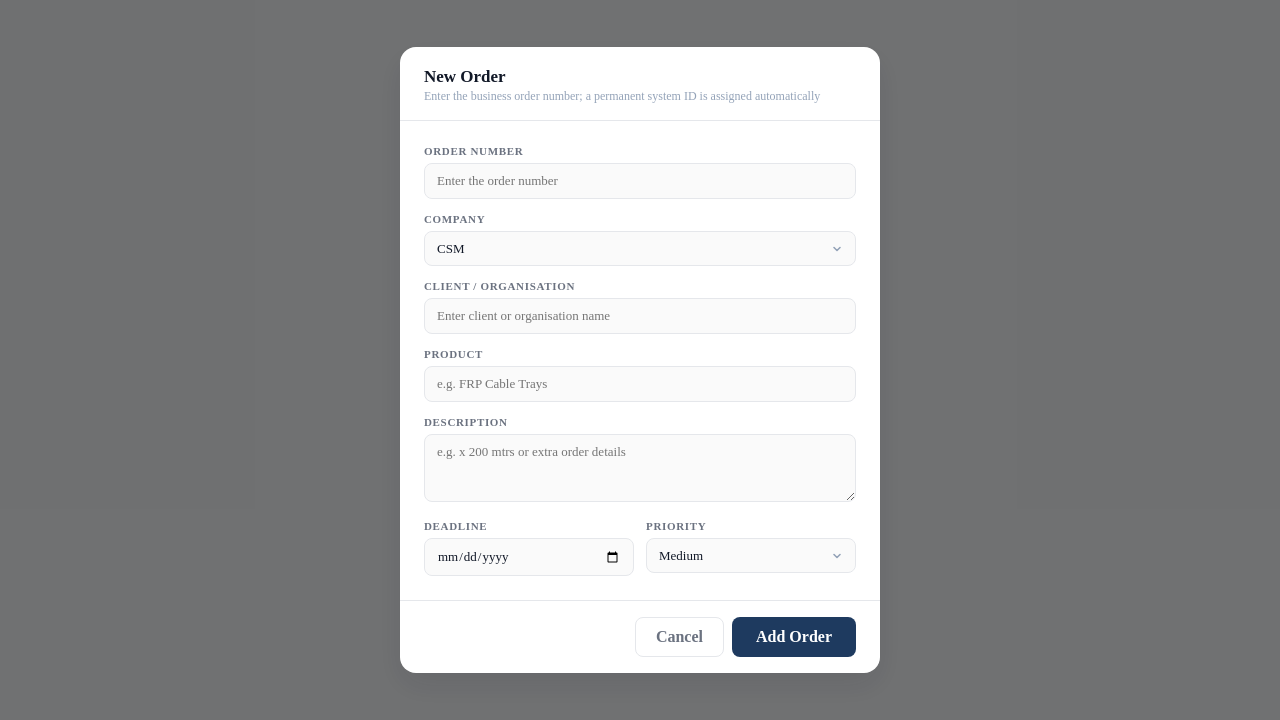
Test case: AddOrderModal order numbers › requires an order number before creating an order
Click the button "Add Order" at (794, 637), box [732, 617, 856, 657]
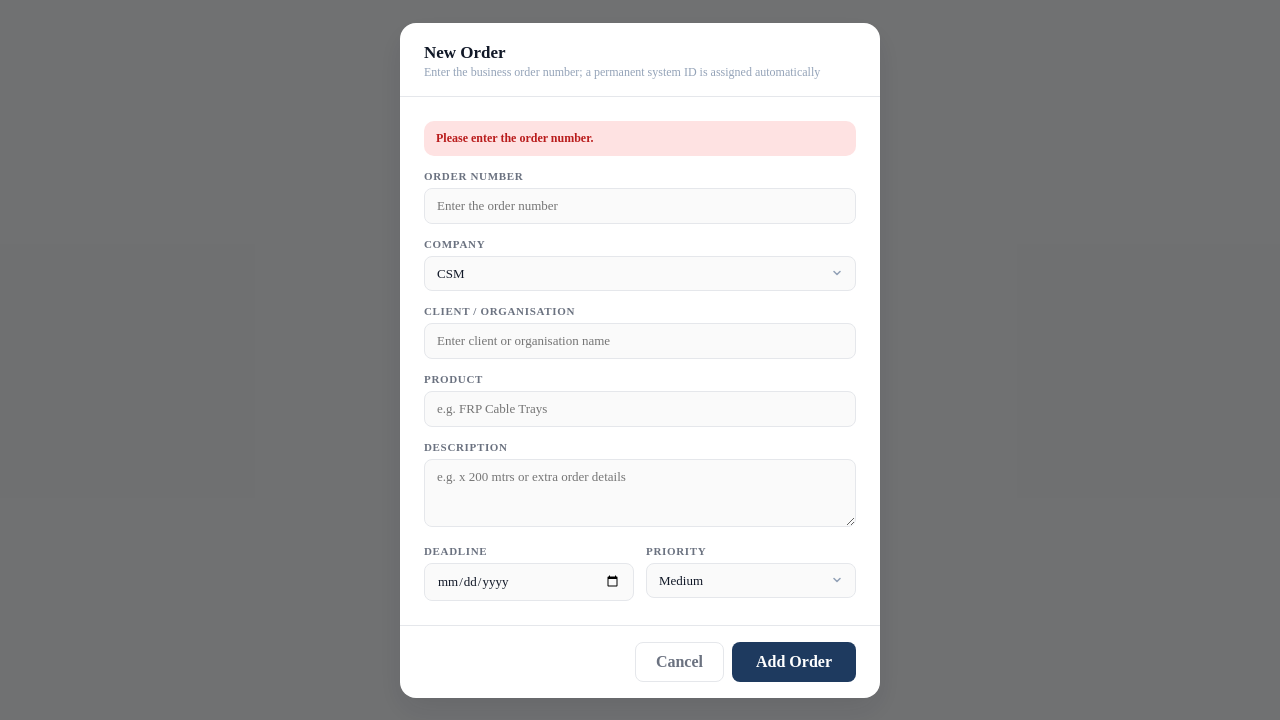
Check: the message reads "Please enter the order number.", box [436, 130, 593, 144]
